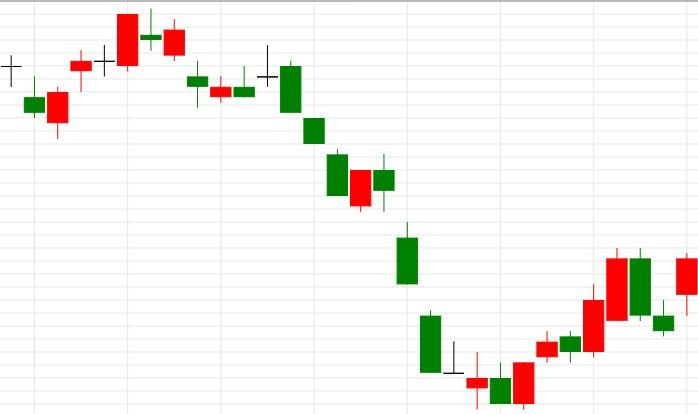bearish_engulfing_fall: (513, 248, 651, 409)
bullish_engulfing_rise: (373, 153, 535, 410)
